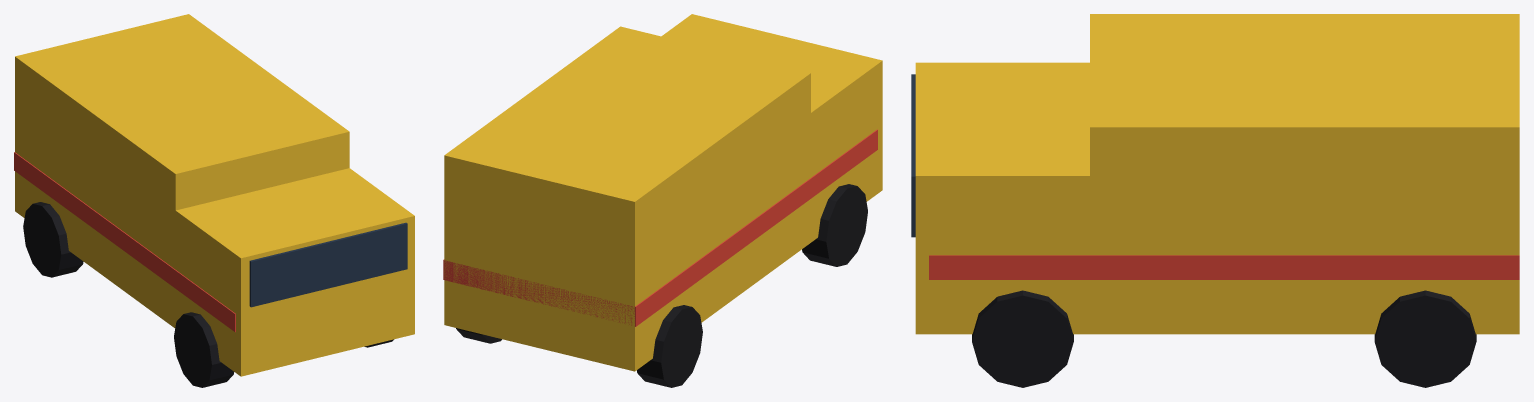
Rendered from toy_van.glb.
3 renders of one model, left to right at view 1: azimuth 30°, elevation 25°; view 2: azimuth 150°, elevation 25°; view 3: azimuth 270°, elevation 25°, orthographic. The views are drawn at different scales.
Parts seen in each view (by area): view 1: box_van_yellow, cab_van_yellow, windshield_van_glass, wheels_van_tire, stripe_van_red; view 2: box_van_yellow, cab_van_yellow, stripe_van_red, wheels_van_tire; view 3: box_van_yellow, cab_van_yellow, wheels_van_tire, stripe_van_red, windshield_van_glass.
Part boxes in pixels (x1,y1,x2,y2): box_van_yellow: [15, 14, 349, 324]; cab_van_yellow: [170, 168, 414, 376]; windshield_van_glass: [249, 222, 407, 307]; wheels_van_tire: [23, 202, 393, 387]; stripe_van_red: [14, 152, 235, 332]; box_van_yellow: [444, 26, 810, 371]; cab_van_yellow: [661, 14, 882, 245]; stripe_van_red: [443, 129, 877, 326]; wheels_van_tire: [456, 184, 867, 387]; box_van_yellow: [1090, 14, 1519, 334]; cab_van_yellow: [915, 62, 1103, 334]; wheels_van_tire: [972, 290, 1476, 387]; stripe_van_red: [929, 255, 1519, 279]; windshield_van_glass: [911, 74, 915, 237].
Size of the model in its own units: 2.18 by 2.1 by 4.53.
